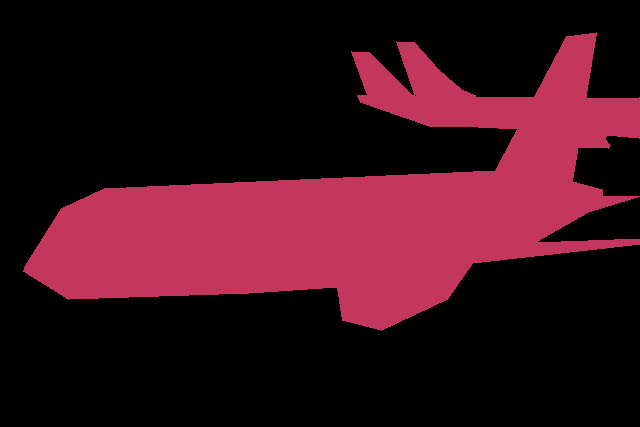Airplane: (23, 32, 640, 331), (351, 51, 640, 148), (396, 41, 476, 96)
